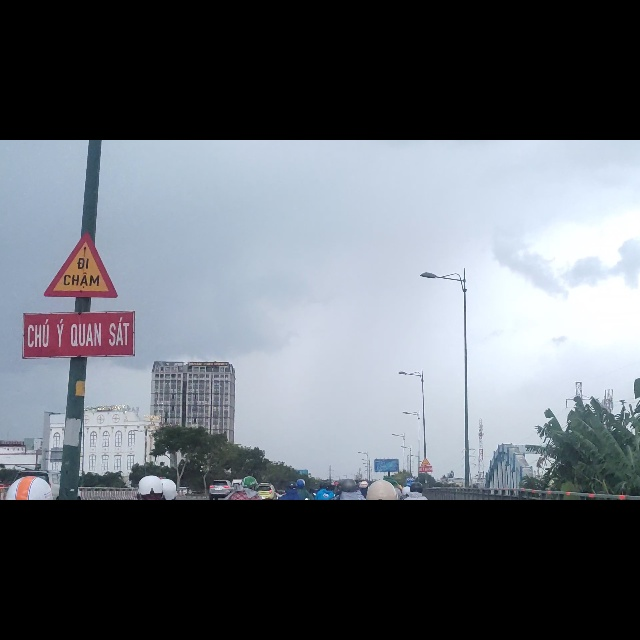bien_cam: (42, 161, 119, 283)
